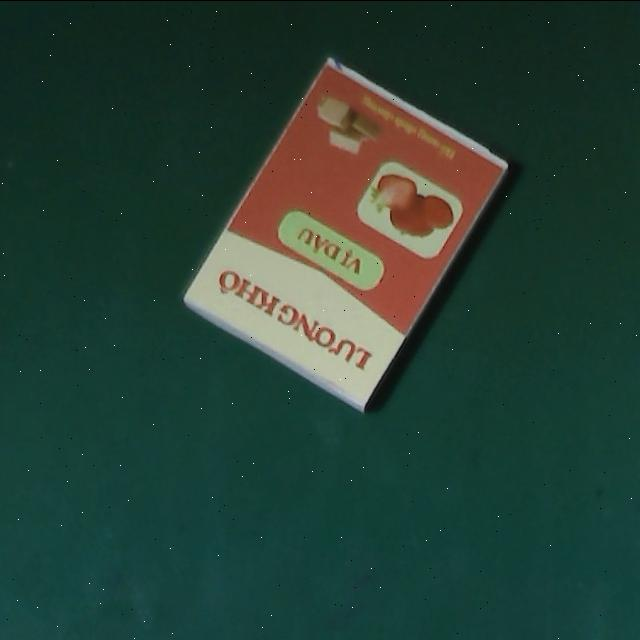dau: (178, 52, 516, 415)
